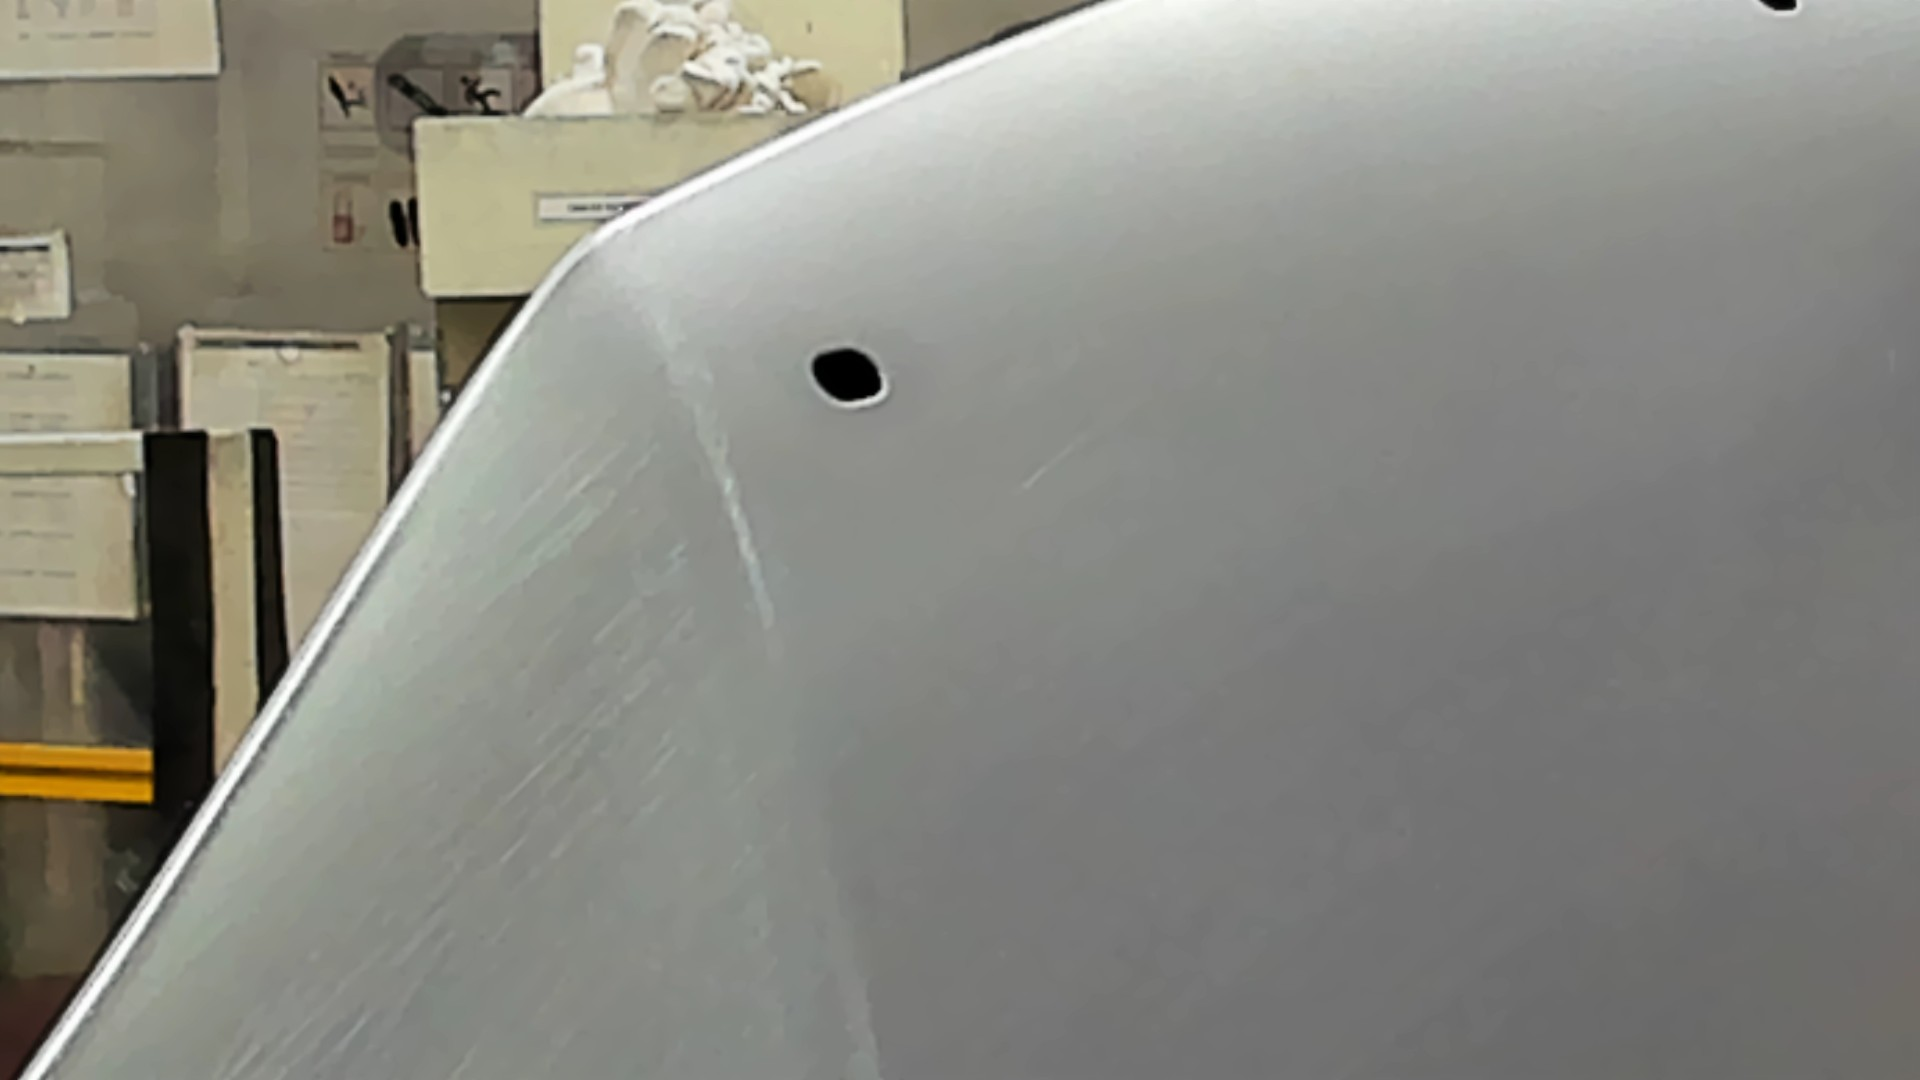amorfo: (798, 340, 898, 411)
capo: (1000, 87, 1920, 1080)
